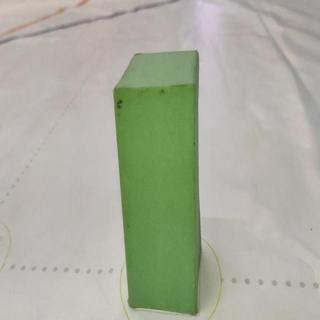greenbox: (113, 49, 204, 316)
